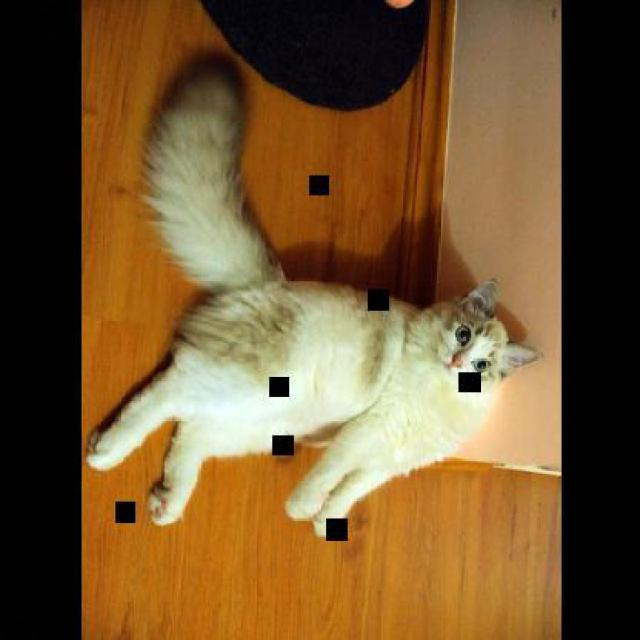unauthorized: (85, 54, 543, 534)
